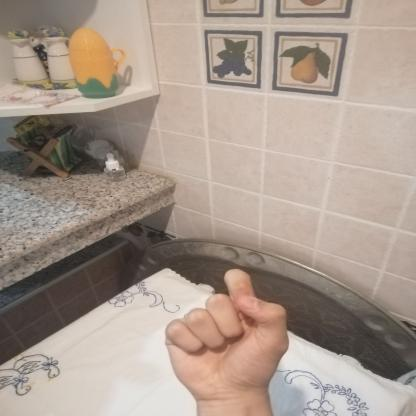FAA: (152, 261, 306, 407)
